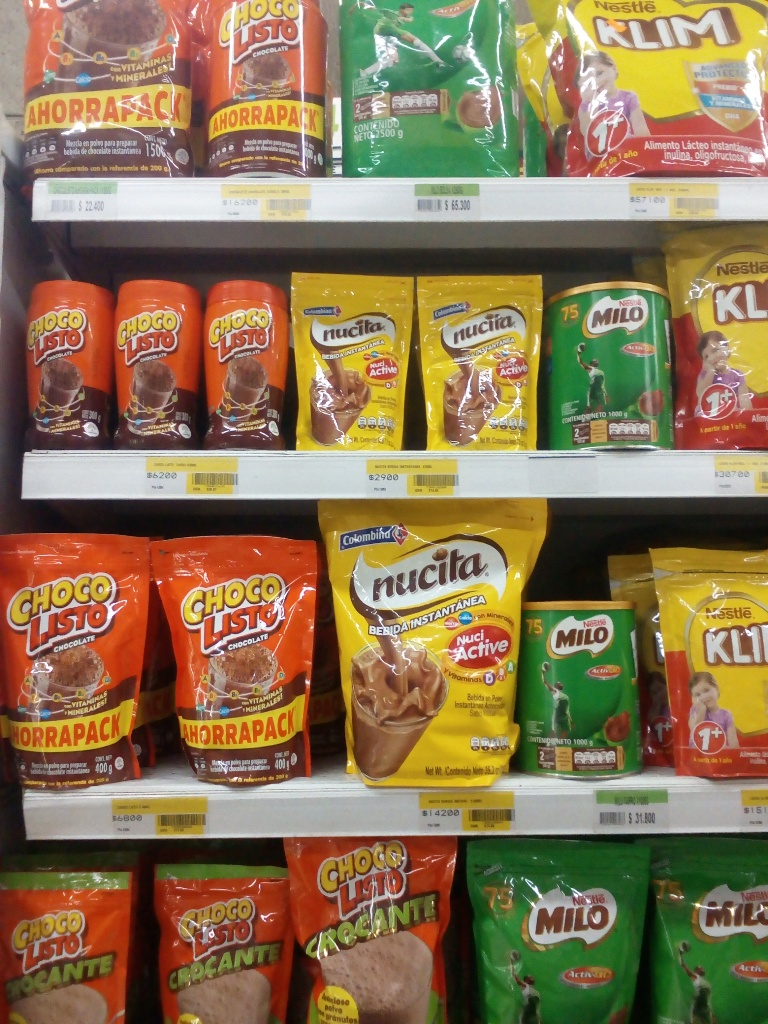COL0170102DYP25000: (153, 862, 290, 1023)
COL0170102DYP50000: (283, 835, 459, 1024)
COL0170103DYP1,500: (21, 0, 207, 179)
COL0170103DYP40000: (150, 532, 327, 789)
COL0170103TRR00100: (209, 0, 328, 183)
COL0170103TRR30000: (202, 276, 293, 450)
COL0170203DYP50000: (463, 836, 643, 1022)
